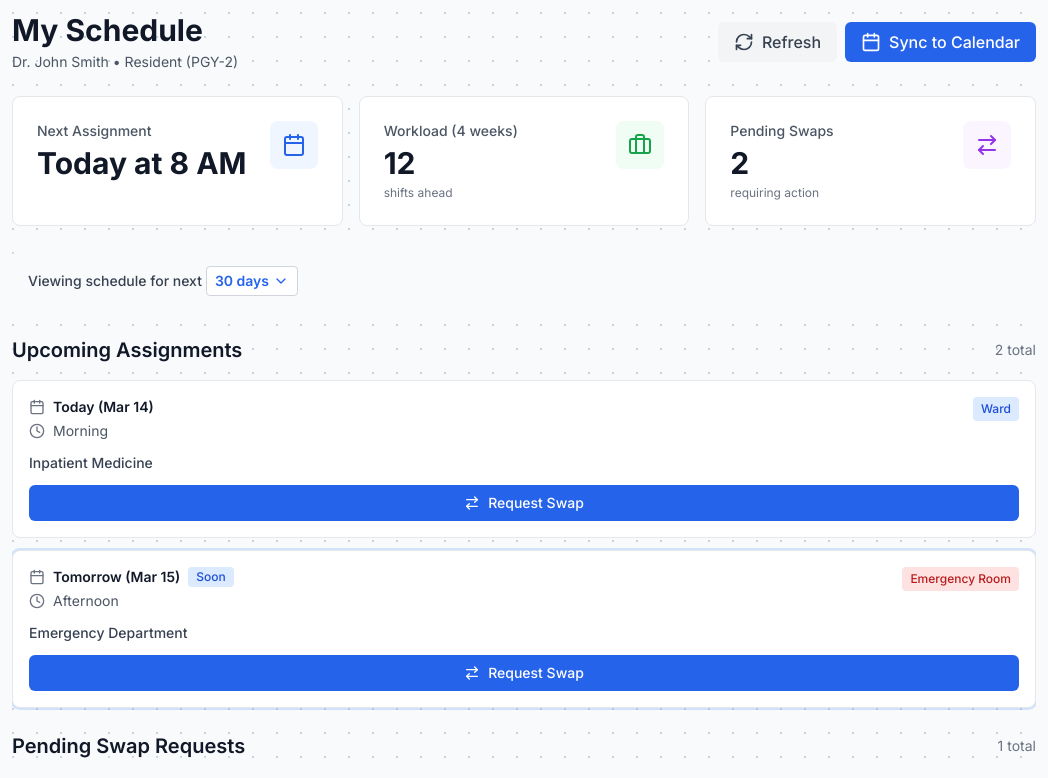
MyLifeDashboard › Days Ahead Selector › should open days selector when clicked
Click the button "30 days" at (252, 281), box x1=206 y1=266 x2=298 y2=296
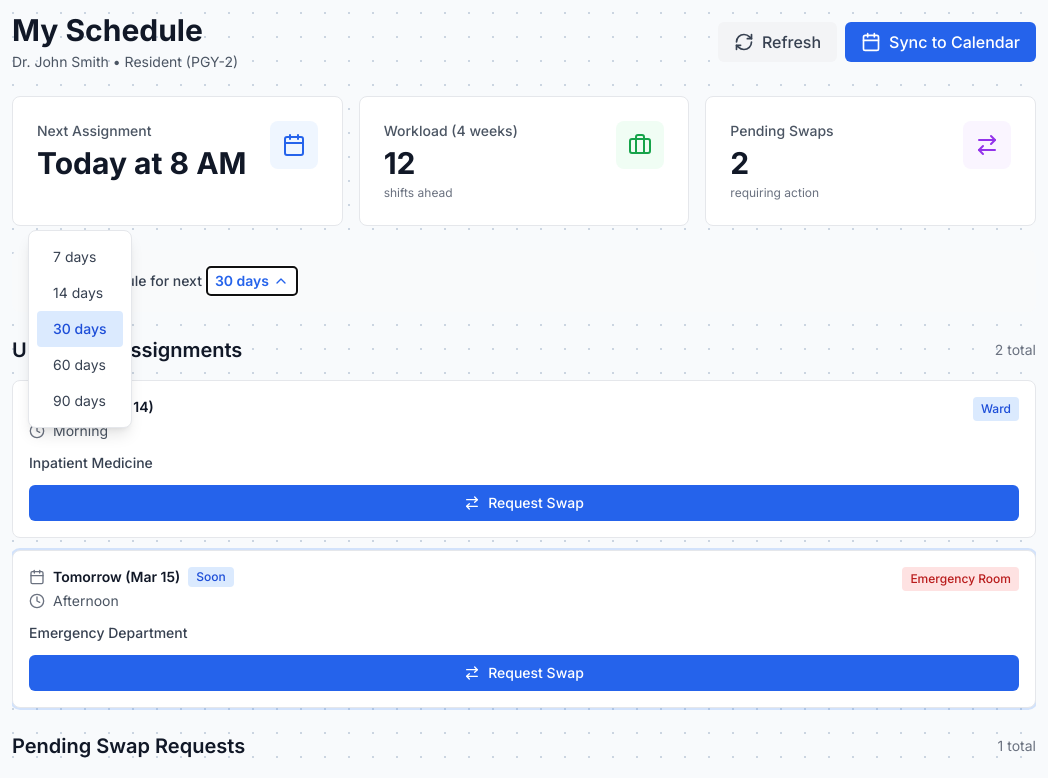
Expected: the option "7 days" is shown, x1=37 y1=239 x2=122 y2=275
Expected: the option "14 days" is shown, x1=37 y1=275 x2=122 y2=311
Expected: the option "60 days" is shown, x1=37 y1=347 x2=122 y2=383
